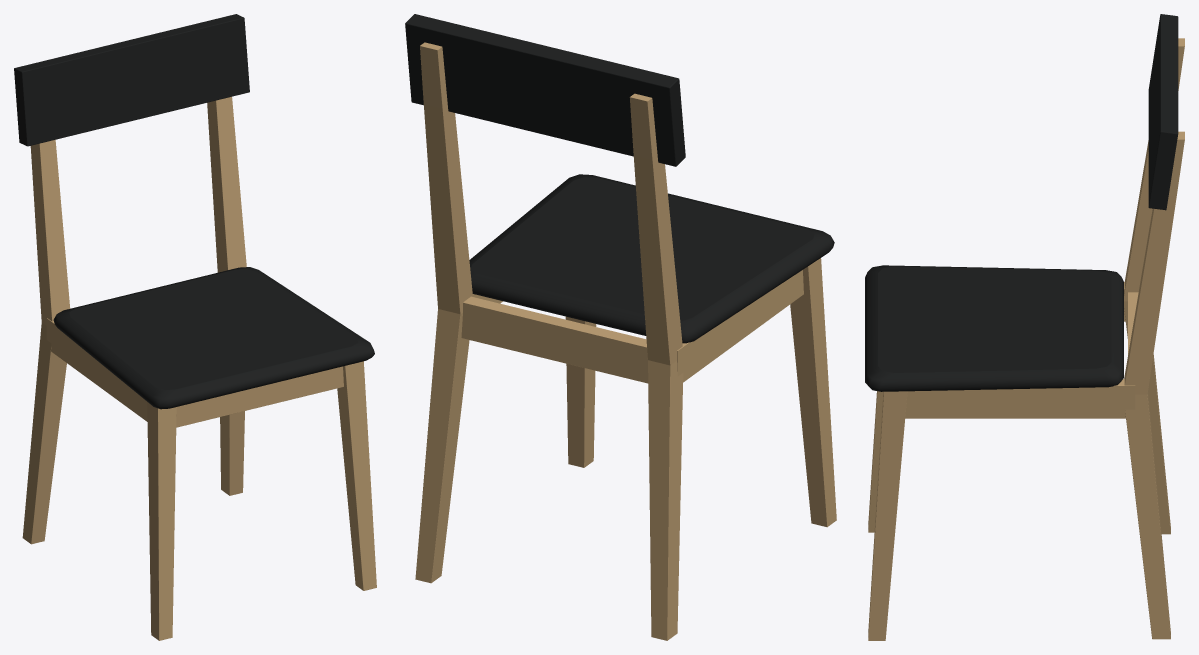
Rendered from Silla.fbx.
3 views of the same model, side by side, from view 1: azimuth 30°, elevation 25°; view 2: azimuth 150°, elevation 25°; view 3: azimuth 270°, elevation 25° (orthographic). The views are drawn at different scales.
Parts seen in each view (by area): view 1: Asiento negro - esquinas redondeadas, Respaldo negro ancho, Pata trasera y montante izquierda, Pata trasera y montante derecha, Pata delantera izquierda, Pata delantera derecha, Travesano delantero, Travesano lateral izquierdo; view 2: Asiento negro - esquinas redondeadas, Respaldo negro ancho, Pata trasera y montante izquierda, Pata trasera y montante derecha, Travesano trasero, Pata delantera izquierda, Travesano lateral izquierdo, Pata delantera derecha; view 3: Asiento negro - esquinas redondeadas, Pata trasera y montante derecha, Travesano lateral derecho, Pata delantera derecha, Respaldo negro ancho, Pata trasera y montante izquierda, Pata delantera izquierda.
Part boxes in pixels (x1,y1,x2,y2): Asiento negro - esquinas redondeadas: (53, 267, 374, 409); Respaldo negro ancho: (14, 14, 249, 146); Pata trasera y montante izquierda: (22, 139, 70, 544); Pata trasera y montante derecha: (207, 96, 246, 495); Pata delantera izquierda: (147, 402, 176, 640); Pata delantera derecha: (337, 361, 376, 590); Travesano delantero: (176, 366, 343, 427); Travesano lateral izquierdo: (46, 318, 147, 421); Asiento negro - esquinas redondeadas: (469, 174, 834, 343); Respaldo negro ancho: (405, 14, 685, 166); Pata trasera y montante izquierda: (629, 93, 683, 640); Pata trasera y montante derecha: (415, 42, 472, 583); Travesano trasero: (461, 296, 648, 383); Pata delantera izquierda: (790, 258, 836, 527); Travesano lateral izquierdo: (677, 270, 803, 382); Pata delantera derecha: (565, 316, 596, 467); Asiento negro - esquinas redondeadas: (865, 265, 1123, 391); Pata trasera y montante derecha: (1124, 131, 1184, 639); Travesano lateral derecho: (905, 379, 1135, 418); Pata delantera derecha: (868, 391, 907, 640); Respaldo negro ancho: (1148, 14, 1178, 210); Pata trasera y montante izquierda: (1124, 38, 1184, 534); Pata delantera izquierda: (868, 391, 883, 532).
Bounding box in the file's own units: 257 × 519 × 295.
